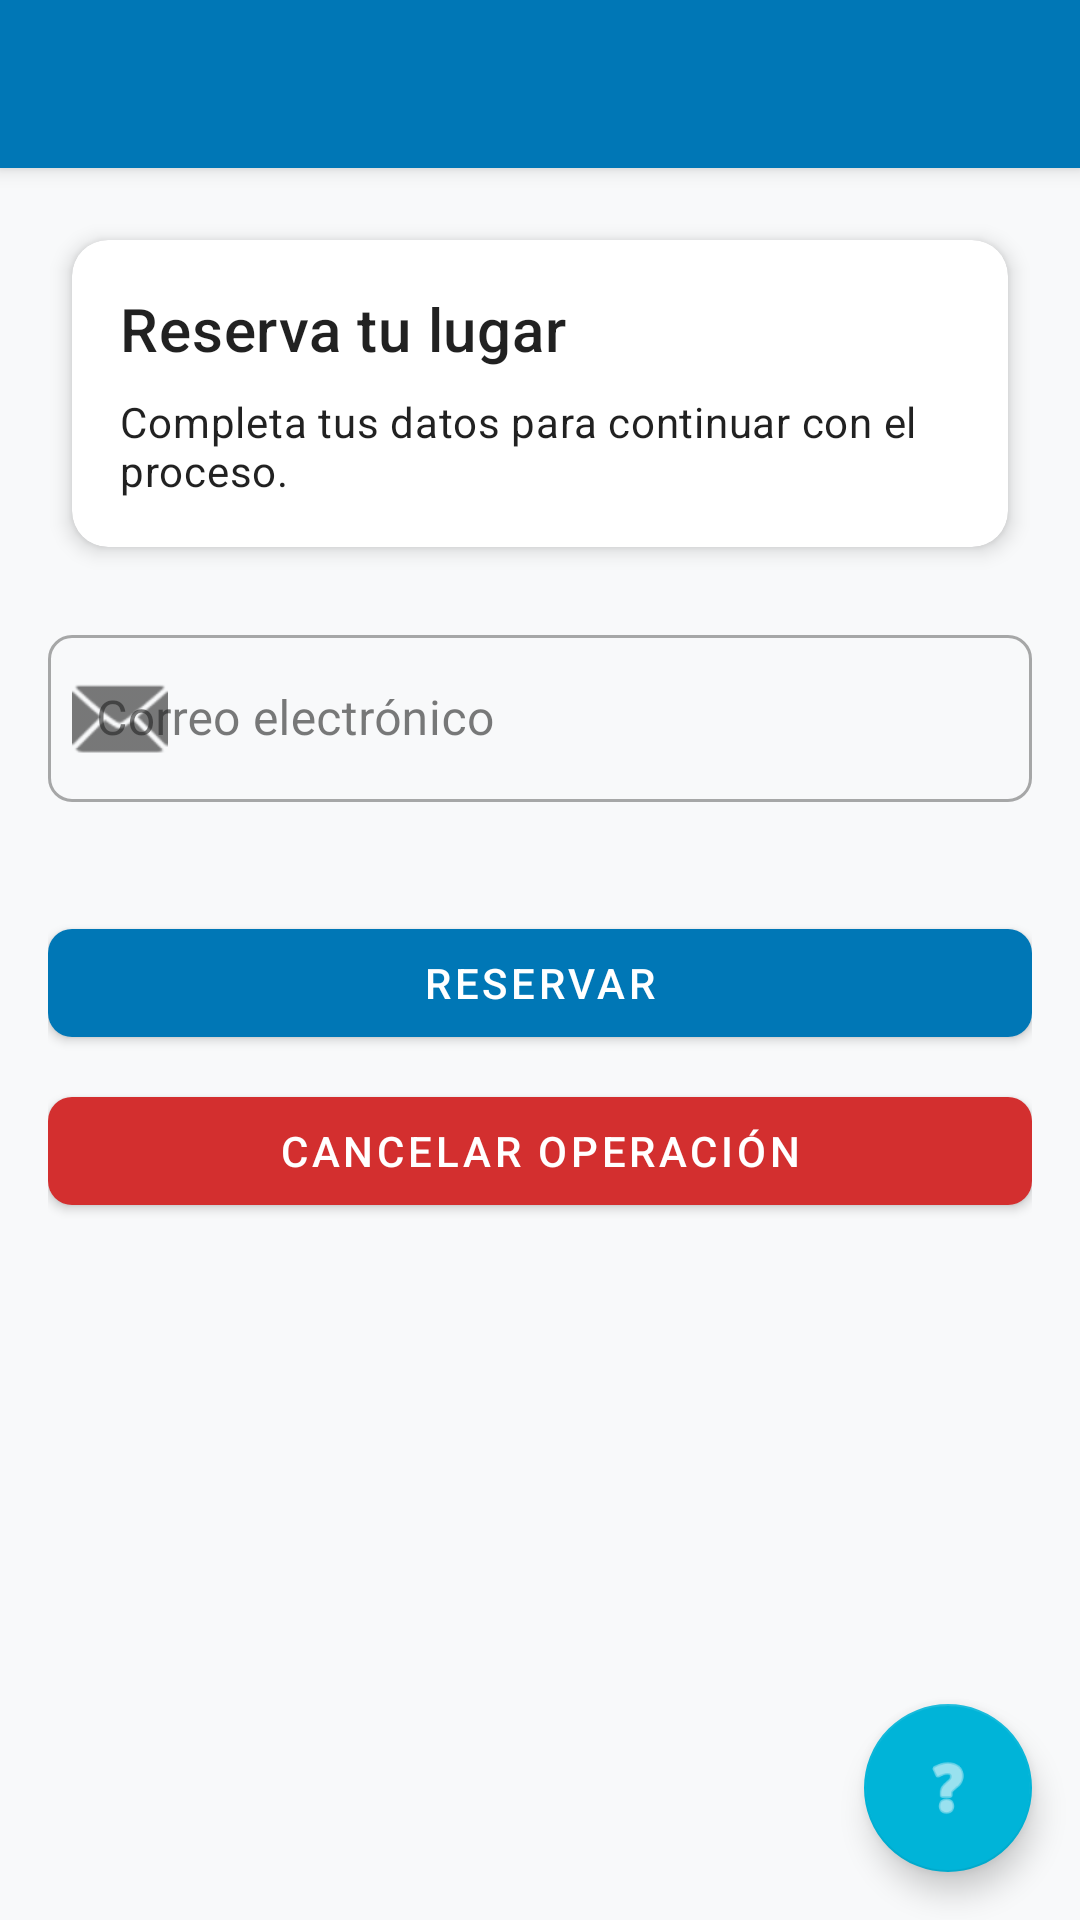

Screen size 1080px x 1920px. Icon name, then its center in pixels as point (x, y):
Ayuda: point (948, 1788)
